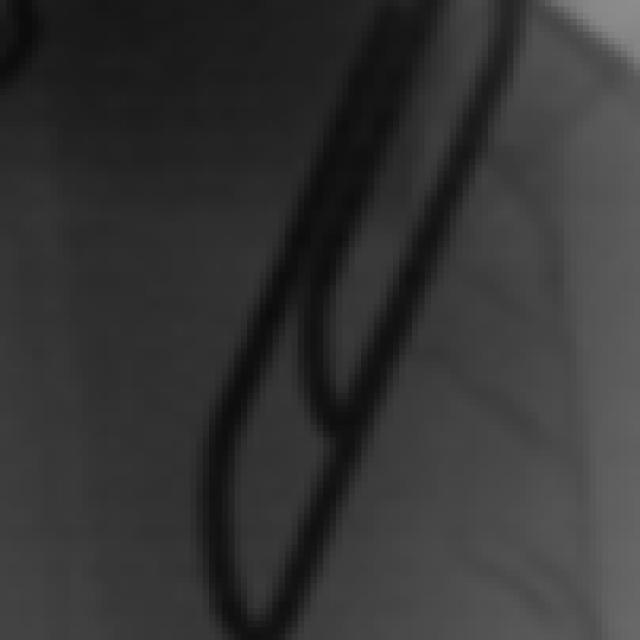BLADE: (333, 106, 417, 434)
